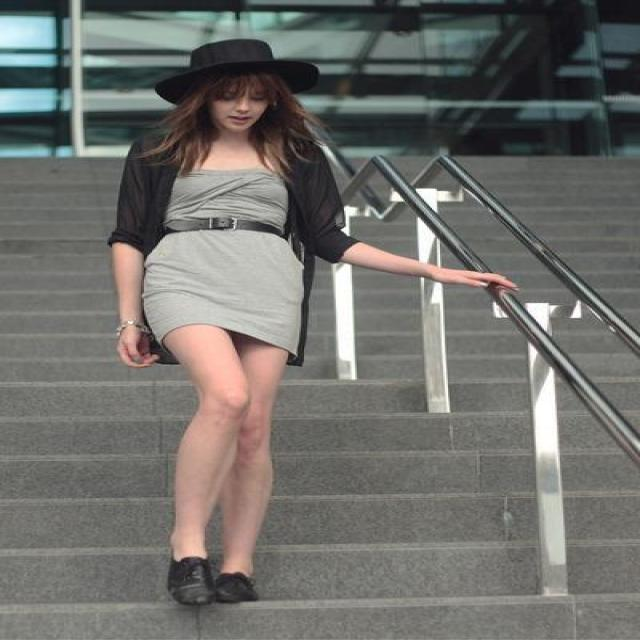dress: (136, 154, 302, 364)
hat: (144, 38, 318, 102)
jacket: (108, 129, 382, 378)
shoe: (168, 557, 248, 615)
